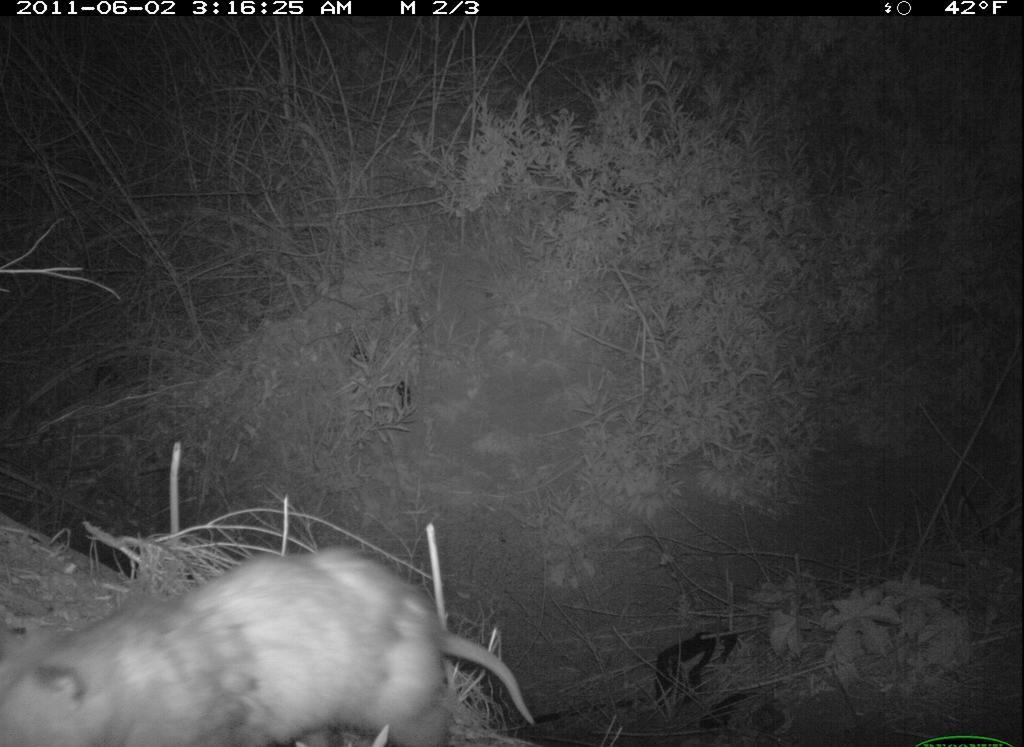opossum: (6, 553, 533, 747)
